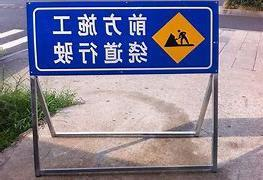sign: (29, 3, 216, 71)
